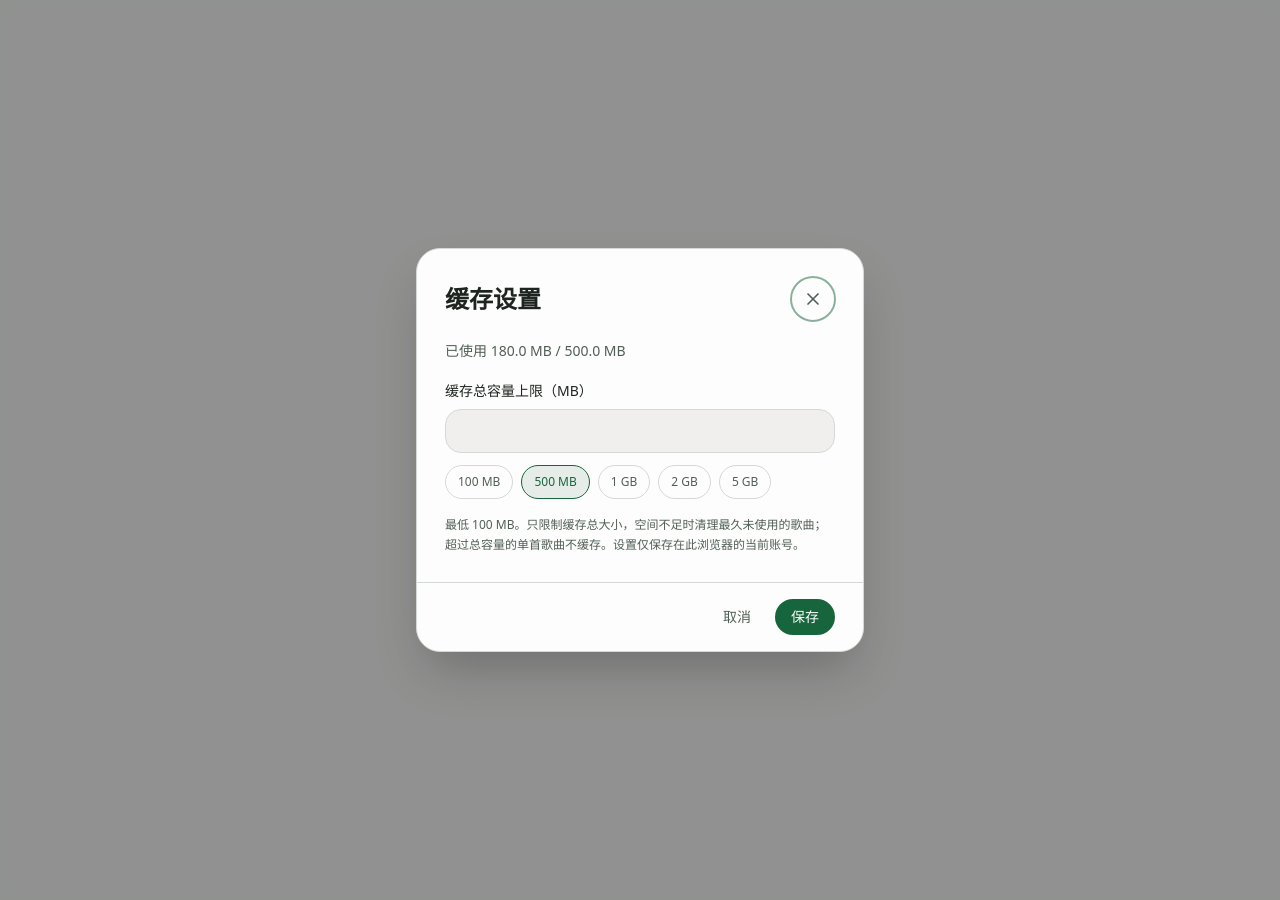
Scenario: 拒绝不合法的容量 ，不保存也不关闭
Clear the number field labelled "缓存总容量上限（MB）" at (640, 431), box [445,409,835,453]
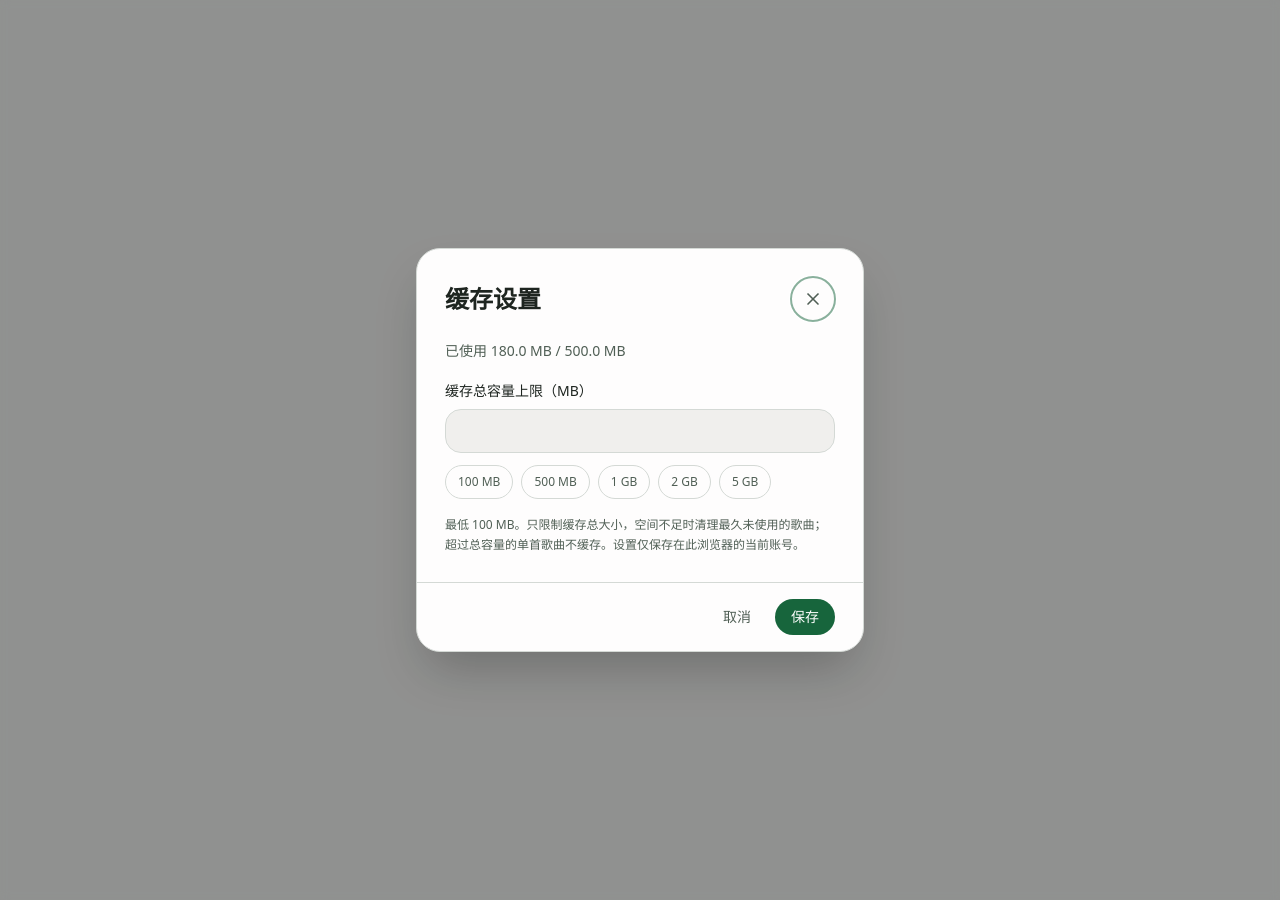
Submit the form, box [445,341,835,554]
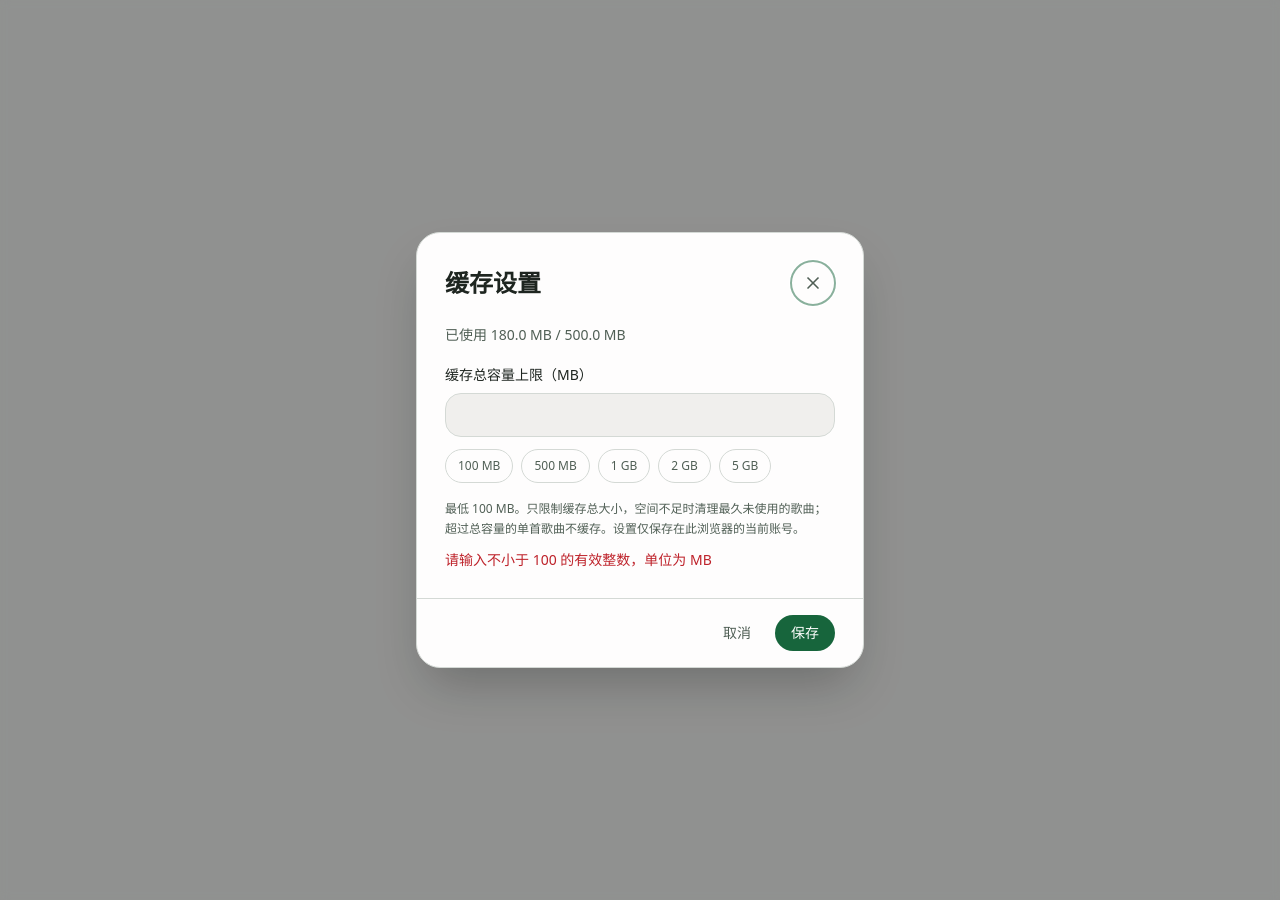
Check: the message "请输入不小于 100 的有效整数，单位为 MB" is shown, box [445,550,712,569]
